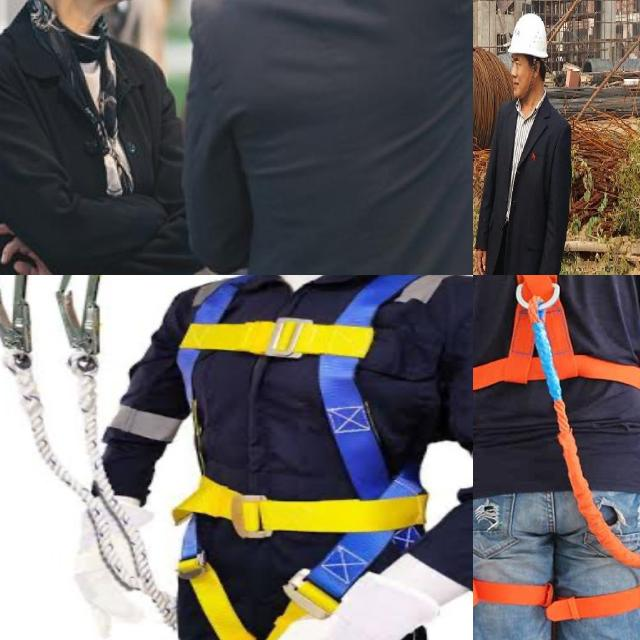Harness: (169, 275, 434, 640), (473, 275, 640, 630)
No_Ear-Protection: (532, 61, 540, 78)
No_Glasses: (509, 55, 524, 70)
face_mask: (512, 67, 530, 100)
hand_noglove: (476, 250, 486, 275)
head_helmet: (508, 12, 546, 58)
